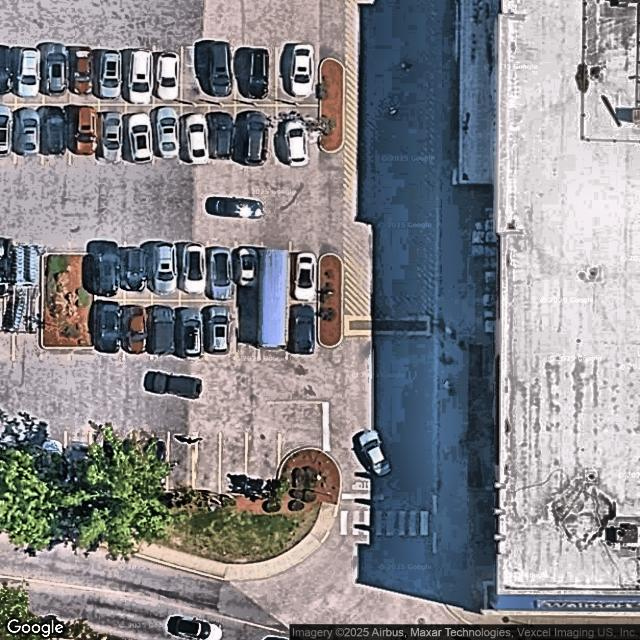car: (94, 241, 120, 297), (242, 109, 267, 167), (153, 239, 178, 297), (209, 42, 234, 98), (292, 43, 316, 99), (282, 119, 310, 167), (208, 246, 232, 302), (129, 48, 152, 106), (155, 51, 181, 101), (179, 306, 204, 358), (97, 46, 121, 99), (97, 301, 121, 354), (129, 111, 153, 163), (184, 242, 207, 296), (207, 305, 232, 354), (45, 43, 68, 96), (71, 45, 95, 95), (17, 46, 40, 98), (75, 105, 98, 157), (292, 303, 315, 355), (123, 244, 147, 293), (187, 113, 210, 163), (102, 109, 123, 163), (152, 305, 175, 354), (126, 304, 149, 353), (294, 251, 316, 302), (247, 47, 269, 97), (157, 108, 179, 158), (44, 106, 65, 156), (18, 106, 39, 154), (213, 111, 234, 158), (237, 244, 259, 288), (69, 439, 88, 485), (41, 442, 62, 482), (1, 45, 12, 97), (0, 107, 12, 153)
lot_boundary: (0, 0, 343, 492)
objects: (41, 253, 96, 350), (1, 232, 45, 334), (260, 251, 288, 347), (320, 58, 343, 153), (319, 254, 342, 347)
stall: (275, 107, 318, 165), (278, 47, 320, 105), (235, 105, 277, 163), (236, 48, 276, 105), (247, 433, 276, 491), (125, 47, 153, 105), (99, 47, 127, 105), (70, 104, 98, 162), (207, 243, 235, 301), (152, 301, 180, 359), (96, 301, 124, 359), (123, 301, 151, 359), (64, 431, 92, 489), (71, 47, 99, 104), (153, 105, 181, 162), (208, 106, 236, 163), (208, 48, 236, 105), (152, 242, 180, 299), (207, 300, 235, 357), (167, 432, 195, 489), (289, 302, 317, 359), (290, 245, 318, 302), (181, 105, 208, 163), (43, 104, 70, 162), (99, 105, 126, 163), (126, 104, 153, 162), (233, 243, 260, 301), (124, 243, 151, 301), (181, 300, 208, 358), (38, 432, 65, 490), (154, 48, 181, 105), (182, 48, 209, 105), (44, 46, 71, 103), (16, 46, 43, 103), (14, 104, 41, 161), (97, 243, 124, 300), (220, 433, 247, 490), (138, 432, 165, 489), (180, 243, 207, 298), (194, 433, 219, 490), (235, 301, 259, 359), (0, 45, 15, 103), (0, 105, 15, 160)
